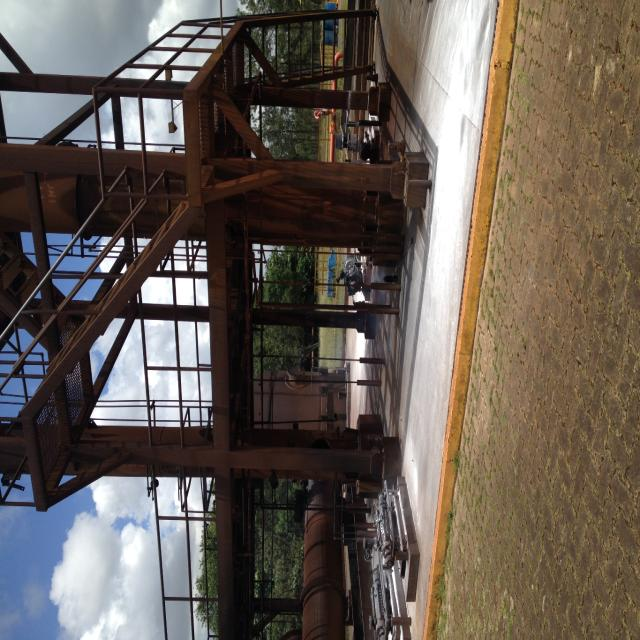no_fire: (0, 3, 631, 616)
